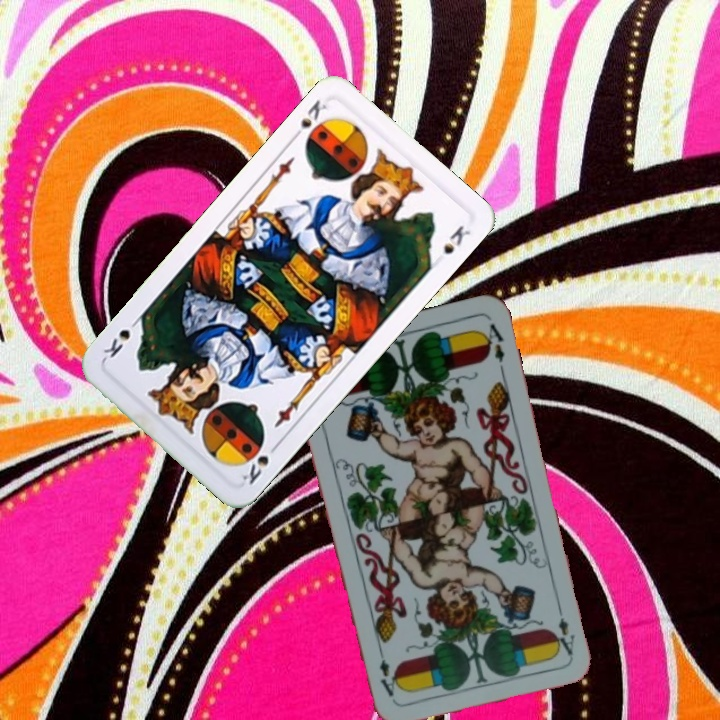EA: (551, 600, 578, 659)
SK: (238, 438, 283, 488), (287, 95, 330, 144)
